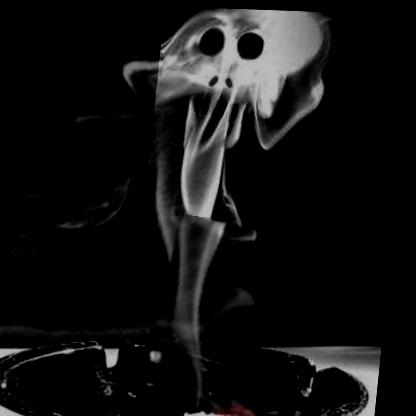smoke: (0, 36, 162, 238), (147, 214, 277, 412)
